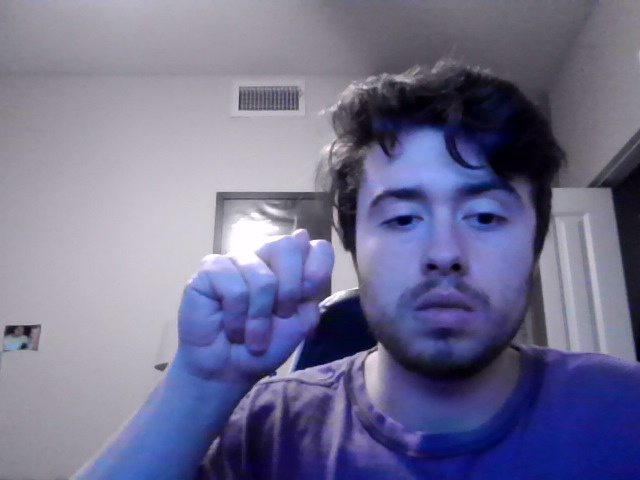t: (176, 227, 335, 394)
